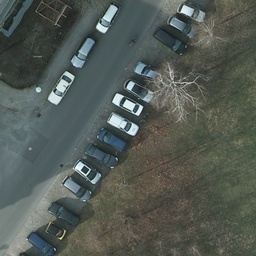car: (46, 68, 75, 105), (155, 24, 187, 56), (134, 61, 169, 87), (123, 78, 158, 104), (106, 110, 139, 136), (95, 125, 128, 151), (85, 143, 118, 169), (166, 14, 196, 40), (111, 91, 143, 115), (72, 158, 101, 184), (62, 175, 91, 201), (49, 199, 78, 225), (26, 229, 55, 255), (70, 39, 94, 69), (96, 5, 118, 35), (176, 3, 206, 22)
